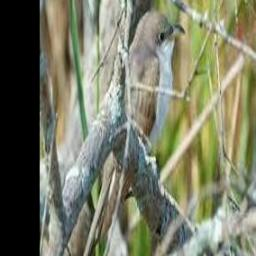Cuckoo: (86, 11, 186, 253)
